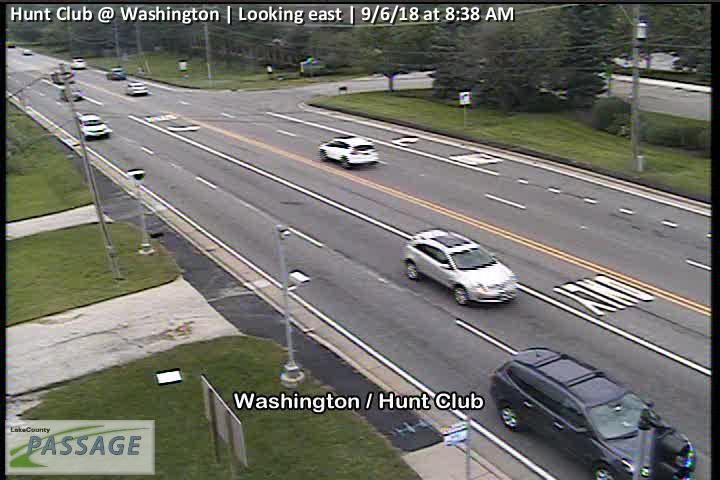SUV: (488, 345, 696, 480), (317, 135, 379, 166)
Sedan: (402, 230, 518, 307), (79, 113, 109, 139), (126, 82, 150, 95), (107, 68, 126, 79), (69, 57, 86, 67)
